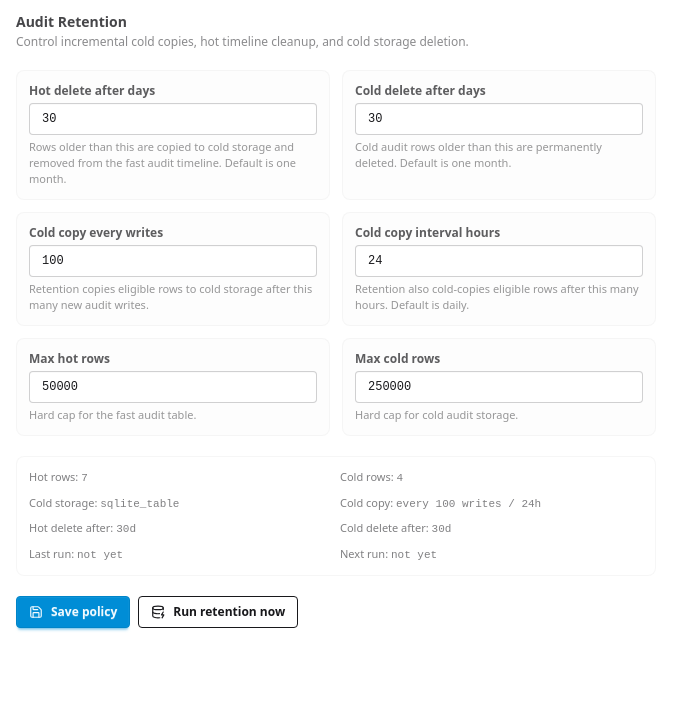
Scenario: AuditRetentionSettingsPanel › loads the 30-day default, saves edits, and can run retention manually
This screenshot has width=673, height=711.
Expected: the text "every 100 writes / 24h" is shown, [396,498,541,510]
Expected: the text "Hot delete after: 30d" is shown, [29,520,136,535]
Replace the text in the number field labelled "Hot delete after days" with "21". click: (173,119)
box: [29,103,317,135]
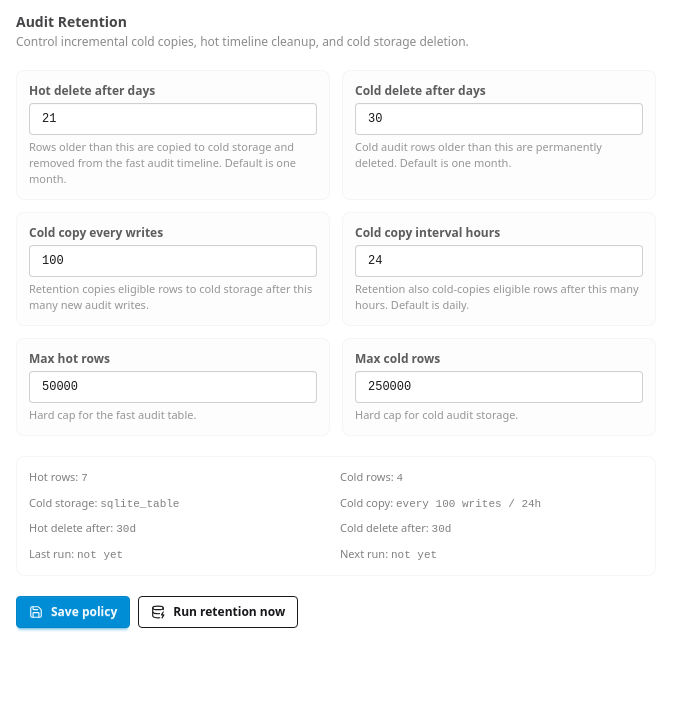
Click the button "Save policy". click: (73,612)
box: [16,596,130,628]
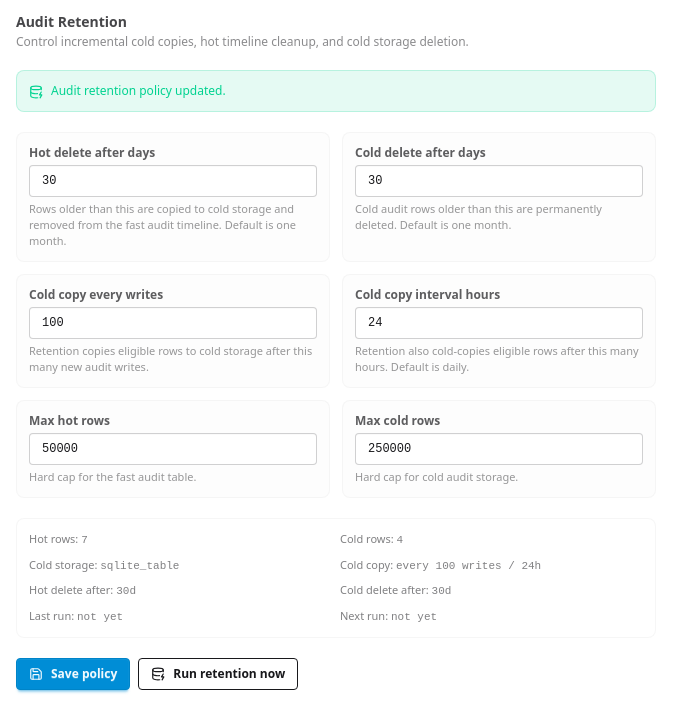
Expected: the text "Audit retention policy updated." is shown, [51,83,226,99]
Click the button "Run retention now". click: (218,674)
box: [138,658,298,690]
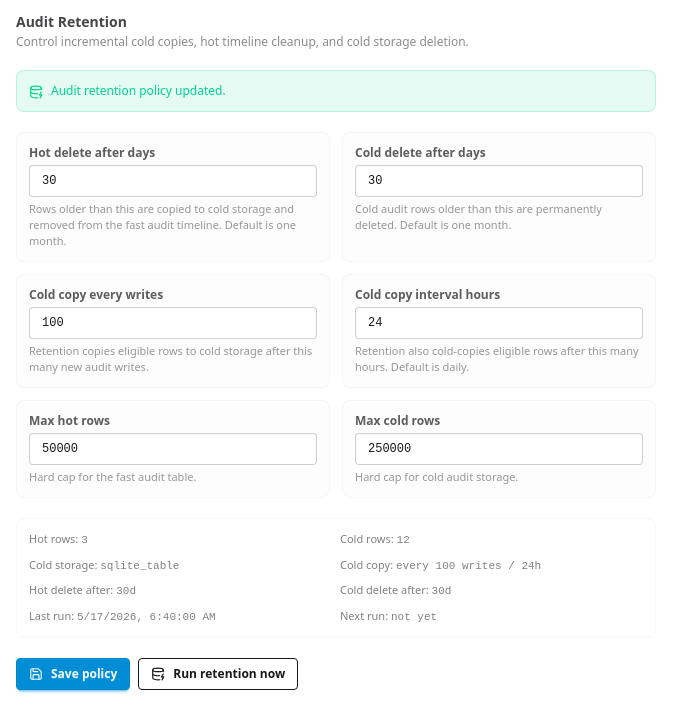
Expected: the text "Cold rows: 12" is shown, [340,531,410,546]
Expected: the text "12" is shown, [397,534,410,546]
